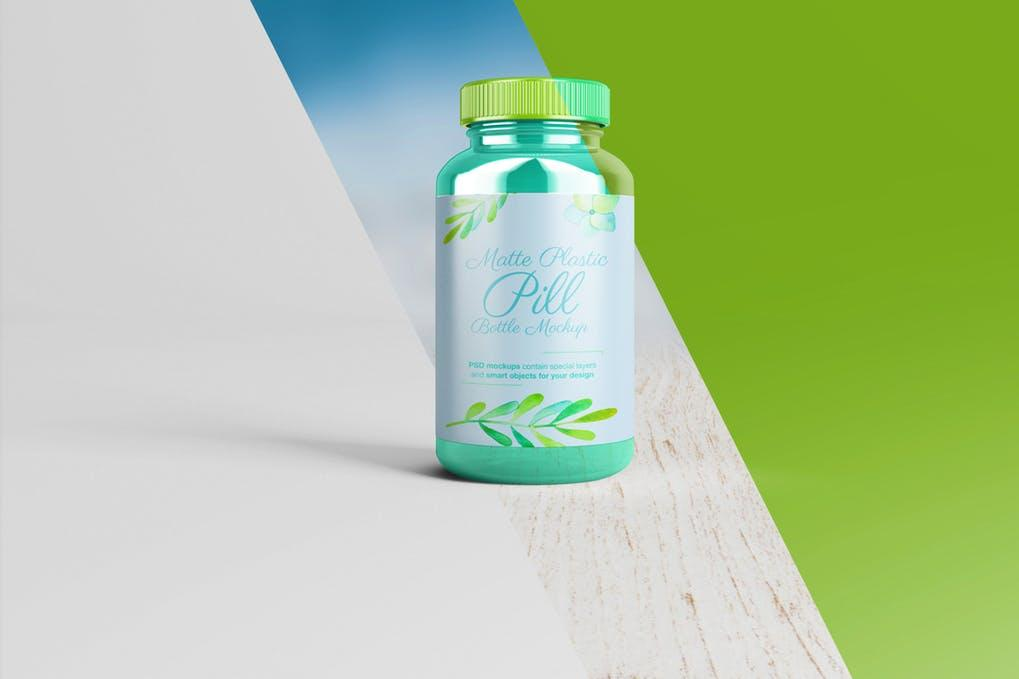jar: (433, 77, 638, 489)
